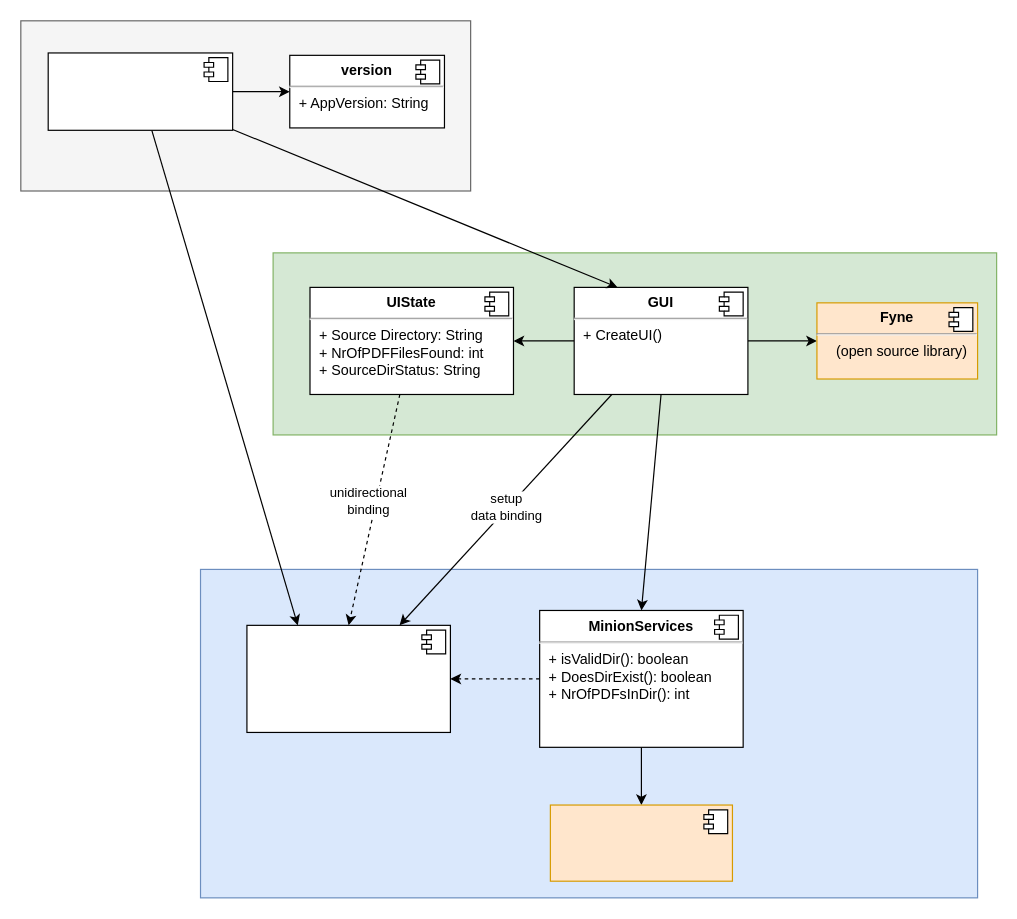
Image size: 1017x919. Some labels were removed from this diagram. Here are the shapes that lost their labels. From the top down, the centre of each, then its label:
the point at 140,91: PDFMinion App + main()
the point at 348,678: MinionState + Source Directory: String + TotalPageCount: int + Files
the point at 640,842: PDFcpu (open source library)
